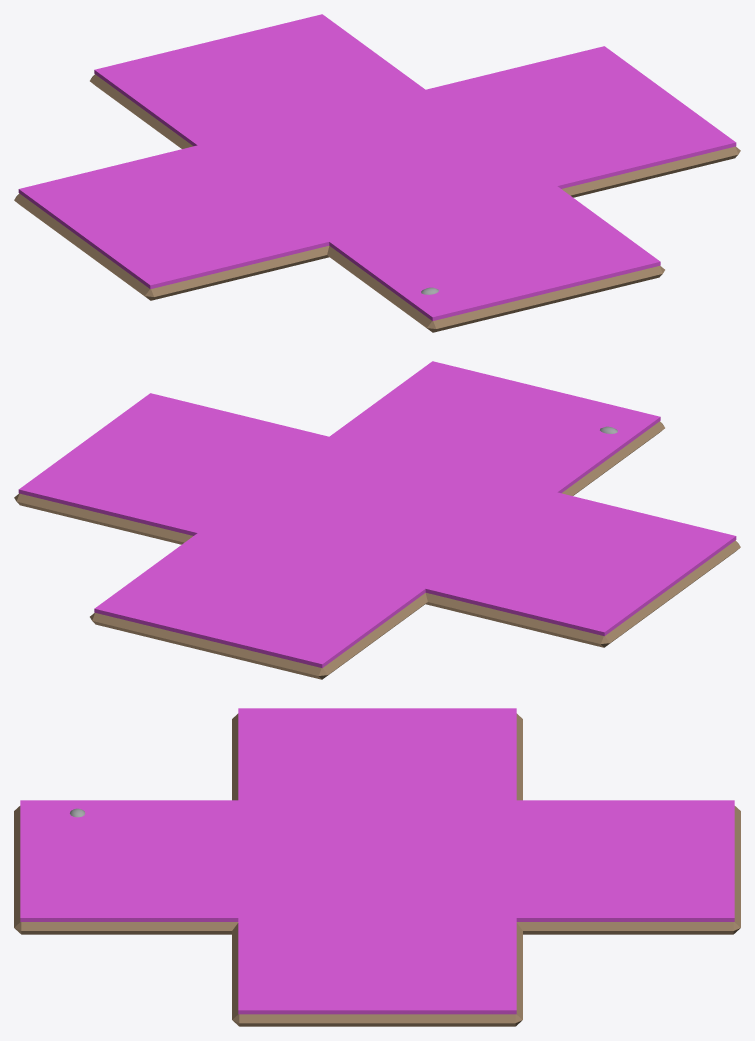
3 renders of one model, top to bottom at view 1: azimuth 30°, elevation 25°; view 2: azimuth 150°, elevation 25°; view 3: azimuth 270°, elevation 25°, orthographic. The views are drawn at different scales.
Parts seen in each view (by area): view 1: NAV_MASK_FOREST_PATH_DIRT_JUNCTION_EW, NAV_MASK_FOREST_PATH_DIRT_JUNCTION_NS, LOD2_FOREST_PATH_DIRT_JUNCTION_EW, LOD2_FOREST_PATH_DIRT_JUNCTION_NS; view 2: NAV_MASK_FOREST_PATH_DIRT_JUNCTION_EW, NAV_MASK_FOREST_PATH_DIRT_JUNCTION_NS, LOD2_FOREST_PATH_DIRT_JUNCTION_EW, LOD2_FOREST_PATH_DIRT_JUNCTION_NS; view 3: NAV_MASK_FOREST_PATH_DIRT_JUNCTION_NS, NAV_MASK_FOREST_PATH_DIRT_JUNCTION_EW, LOD2_FOREST_PATH_DIRT_JUNCTION_NS, LOD2_FOREST_PATH_DIRT_JUNCTION_EW.
Part boxes in pixels (left/top/right/bottom): NAV_MASK_FOREST_PATH_DIRT_JUNCTION_EW: left=18, top=46, right=736, bottom=289; NAV_MASK_FOREST_PATH_DIRT_JUNCTION_NS: left=94, top=14, right=660, bottom=321; LOD2_FOREST_PATH_DIRT_JUNCTION_EW: left=14, top=146, right=740, bottom=300; LOD2_FOREST_PATH_DIRT_JUNCTION_NS: left=90, top=74, right=664, bottom=332; NAV_MASK_FOREST_PATH_DIRT_JUNCTION_EW: left=18, top=393, right=736, bottom=636; NAV_MASK_FOREST_PATH_DIRT_JUNCTION_NS: left=94, top=361, right=660, bottom=668; LOD2_FOREST_PATH_DIRT_JUNCTION_EW: left=14, top=493, right=740, bottom=647; LOD2_FOREST_PATH_DIRT_JUNCTION_NS: left=90, top=421, right=664, bottom=679; NAV_MASK_FOREST_PATH_DIRT_JUNCTION_NS: left=20, top=800, right=734, bottom=921; NAV_MASK_FOREST_PATH_DIRT_JUNCTION_EW: left=238, top=708, right=516, bottom=1014; LOD2_FOREST_PATH_DIRT_JUNCTION_NS: left=14, top=806, right=740, bottom=934; LOD2_FOREST_PATH_DIRT_JUNCTION_EW: left=232, top=713, right=522, bottom=1026.
Size of what is drawn, in the model's own units: 8 by 0.24 by 8.
